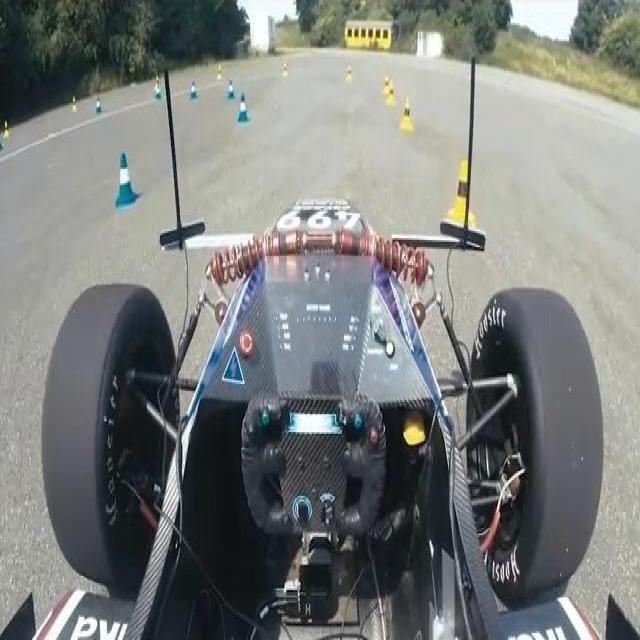blue_cone: (111, 151, 140, 208), (237, 87, 254, 129), (186, 75, 199, 109), (223, 73, 237, 101)
yellow_cone: (448, 160, 484, 243), (401, 94, 418, 136), (379, 70, 402, 100), (343, 54, 358, 80)
